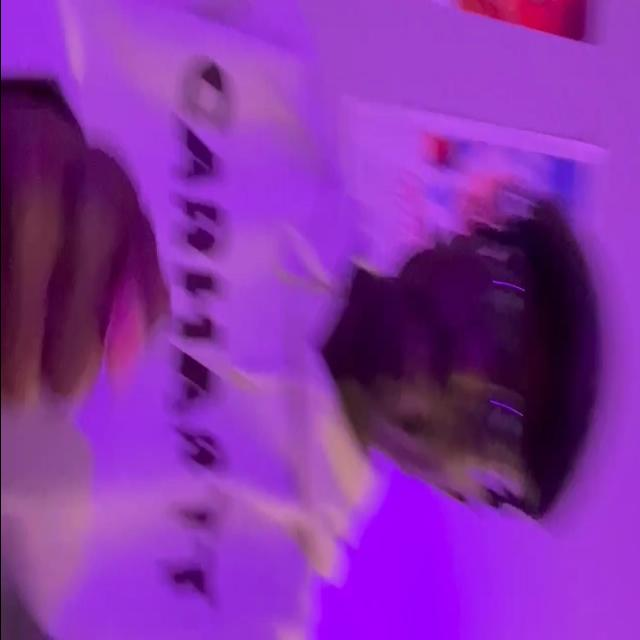Rock: (0, 94, 168, 417)
